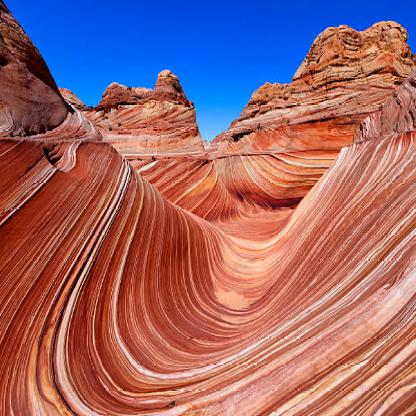Sedimentary_Sandstone: (1, 0, 70, 132), (295, 19, 355, 111), (361, 21, 410, 102), (227, 80, 284, 140), (146, 69, 190, 101), (100, 79, 136, 110)
